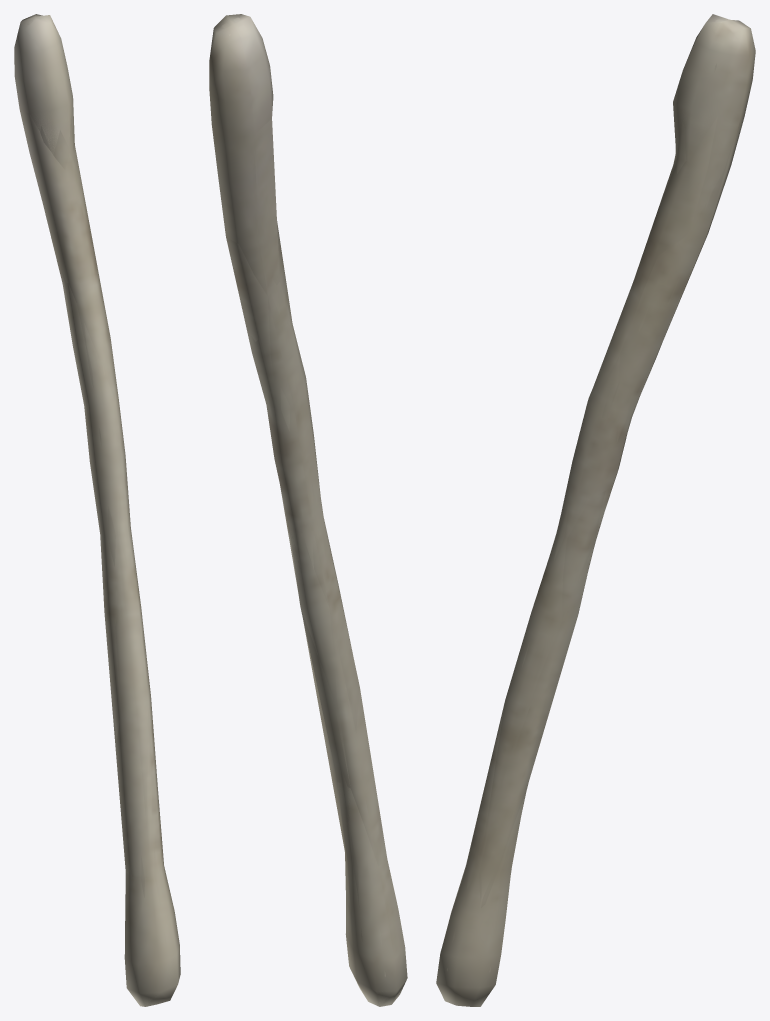
The model's file is R metatarsi secundum.fbx.
3 views of the same model, side by side, from view 1: azimuth 30°, elevation 25°; view 2: azimuth 150°, elevation 25°; view 3: azimuth 270°, elevation 25° (orthographic). The views are drawn at different scales.
Parts seen in each view (by area): view 1: R metatarsi secundum, R metatarsi secundum low, R metatarsi secundum high; view 2: R metatarsi secundum, R metatarsi secundum low, R metatarsi secundum high; view 3: R metatarsi secundum, R metatarsi secundum low, R metatarsi secundum high.
Part boxes in pixels (x1,y1,x2,y2): R metatarsi secundum: (14,14,180,1006); R metatarsi secundum low: (19,15,179,1004); R metatarsi secundum high: (27,15,178,964); R metatarsi secundum: (209,14,407,1006); R metatarsi secundum low: (211,15,394,1005); R metatarsi secundum high: (221,17,386,976); R metatarsi secundum: (436,14,755,1006); R metatarsi secundum low: (437,14,746,998); R metatarsi secundum high: (445,19,740,972).
Bounding box in the file's own units: 0.3113 × 5.37 × 1.57.
1 material, 1 textured.
